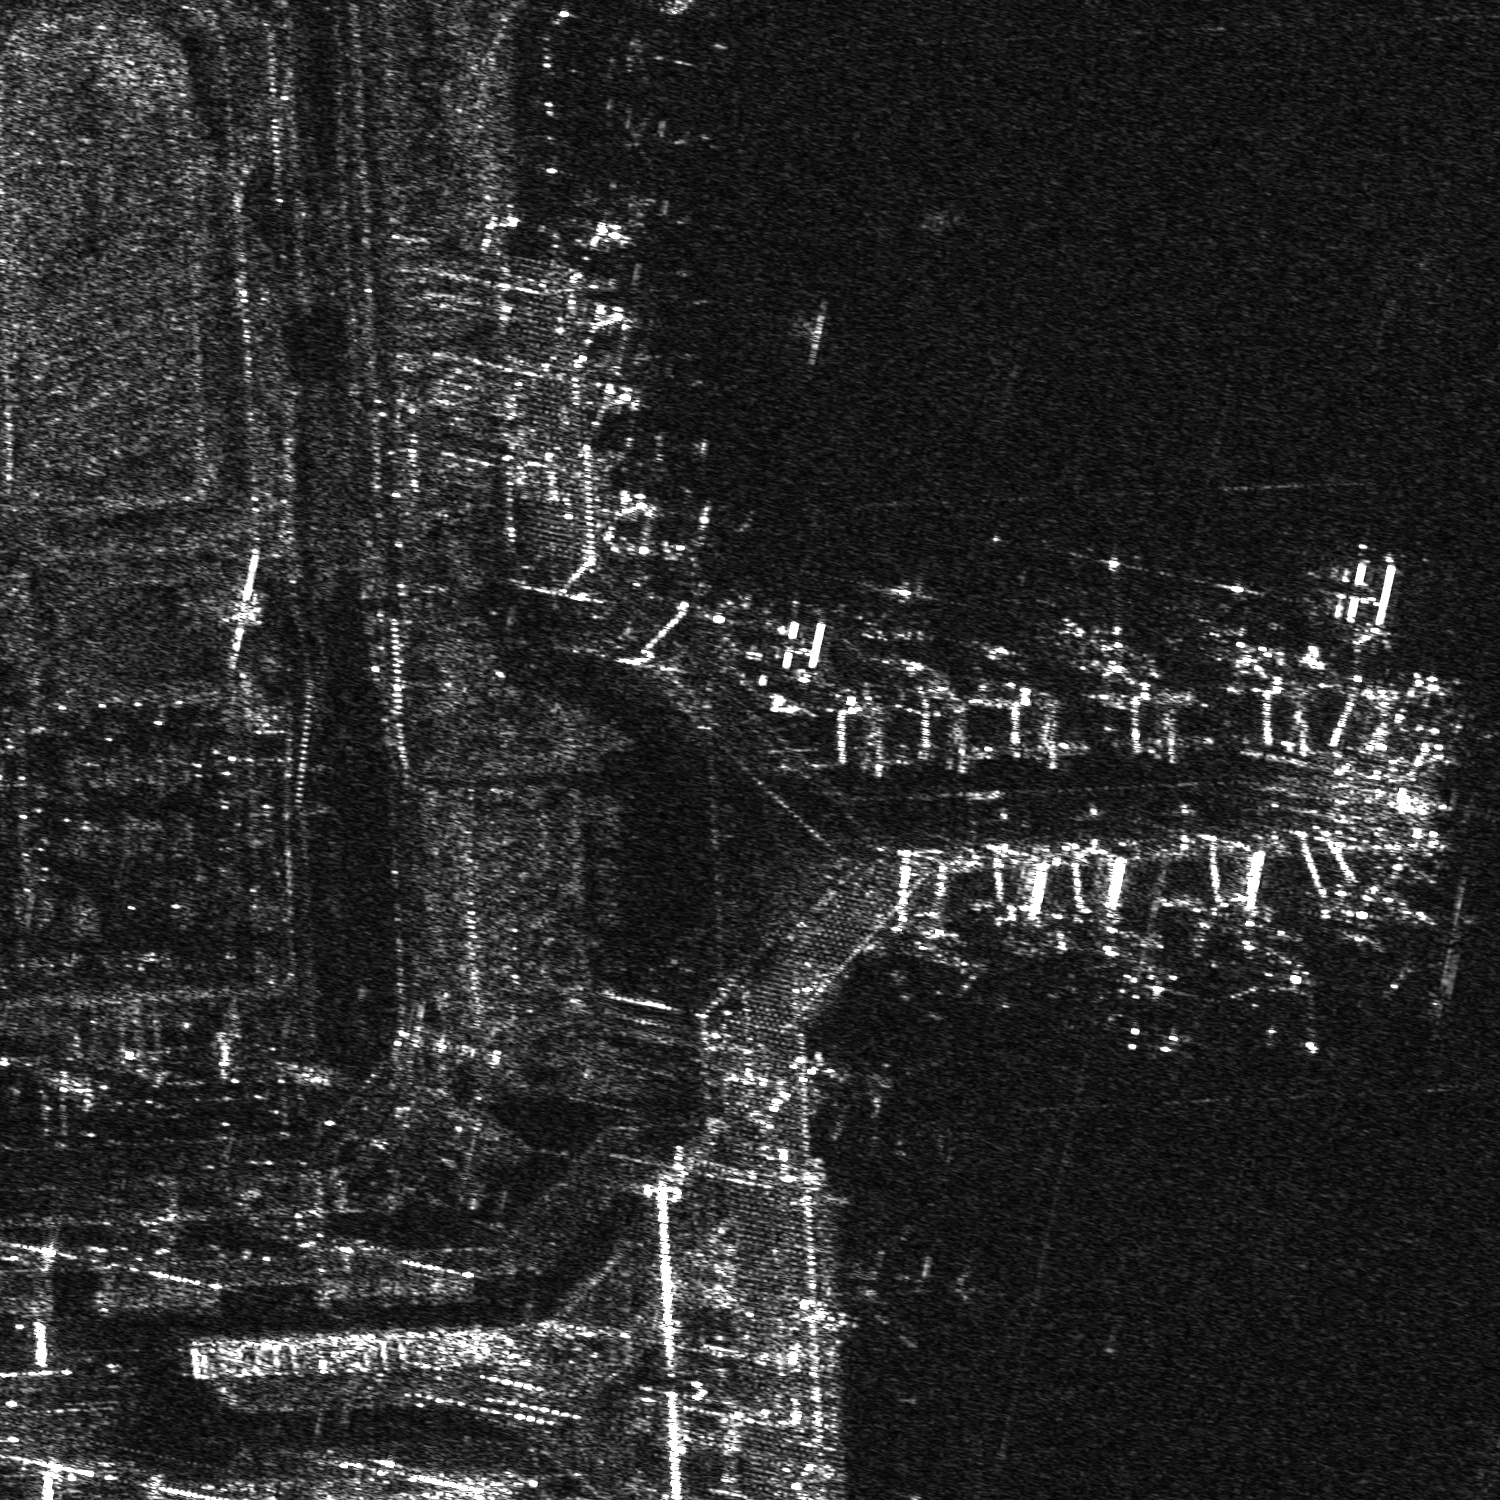A220: (835, 567, 946, 655)
A320/321: (837, 1224, 975, 1354), (1033, 541, 1146, 657), (1096, 966, 1202, 1063), (1177, 567, 1282, 655), (1370, 942, 1459, 1025)
Boeing737: (1225, 957, 1341, 1052)
